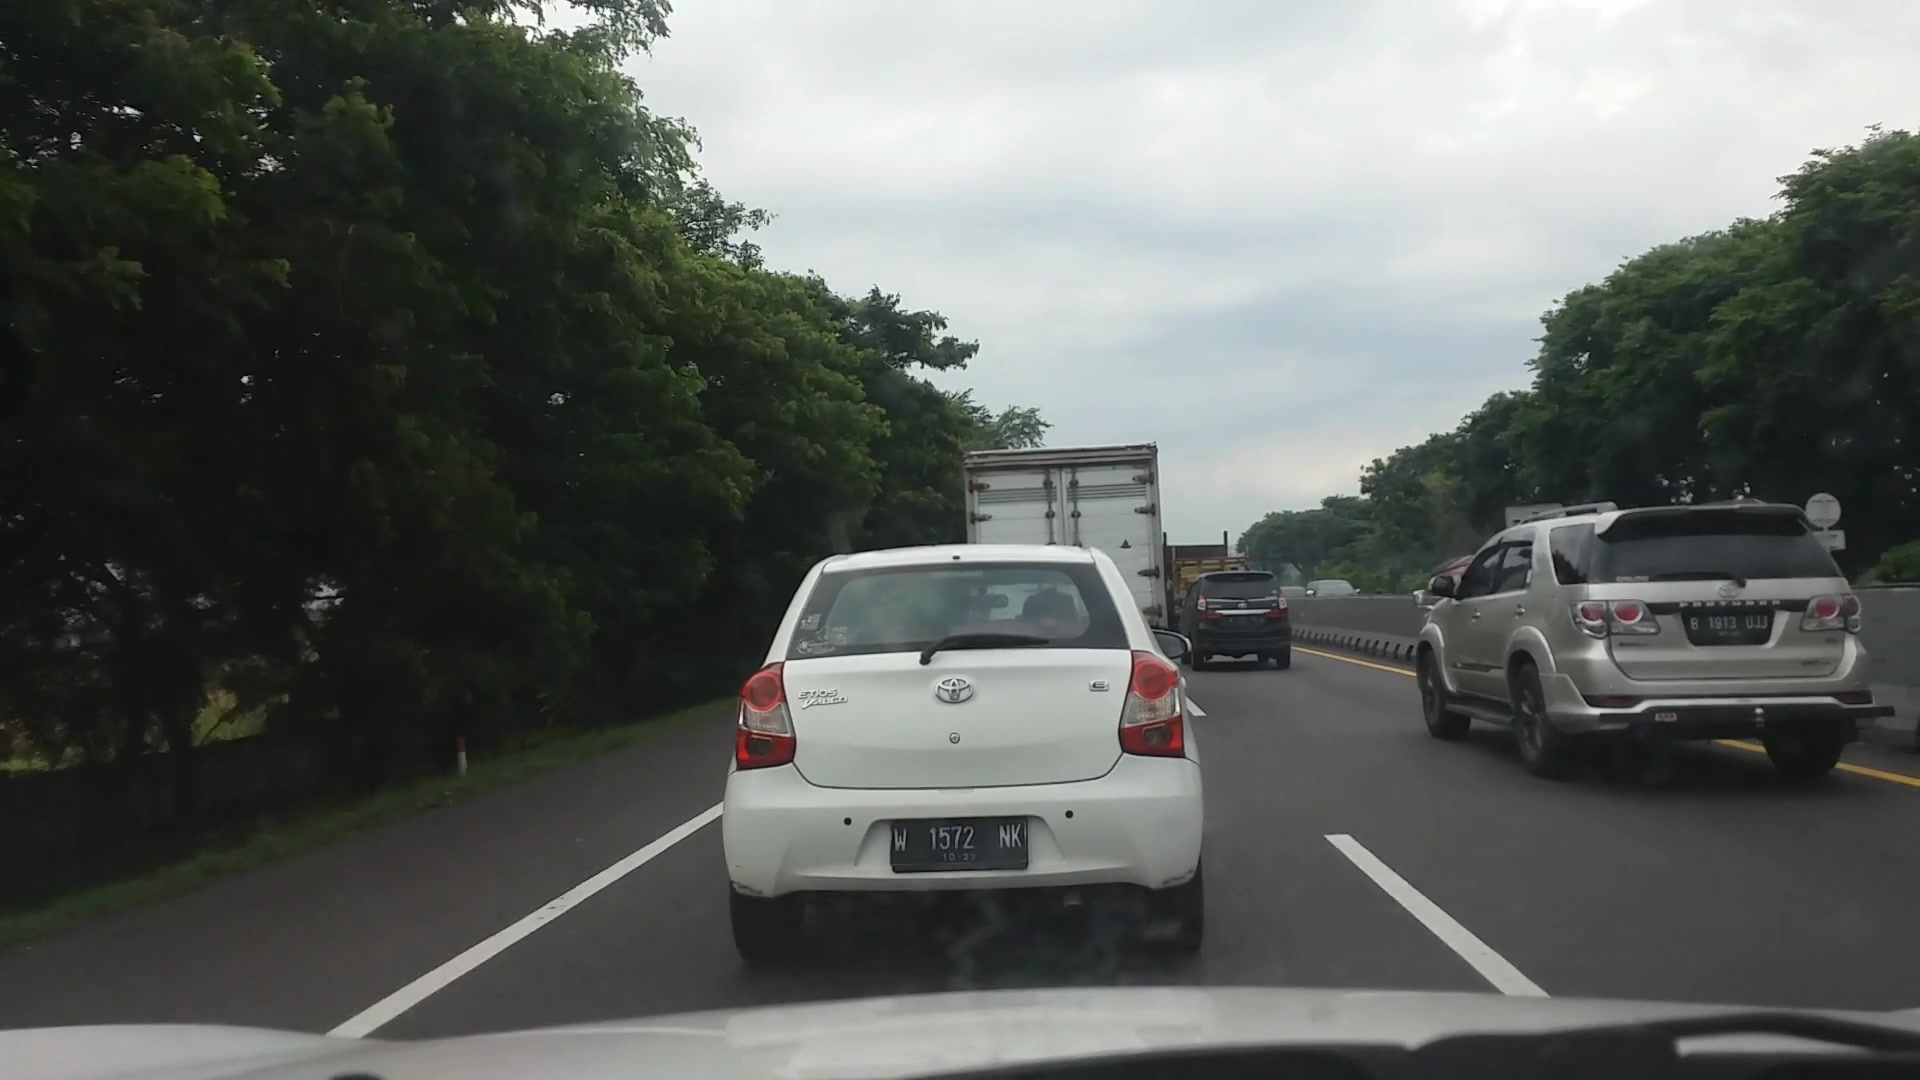plate_positive: (889, 815, 1029, 873), (1688, 613, 1770, 637)
